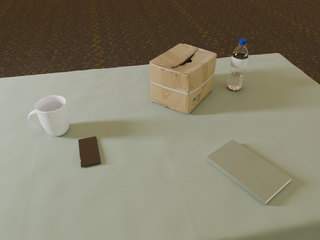book: (206, 140, 291, 205)
bottle: (227, 39, 249, 91)
box: (150, 44, 217, 114)
cup: (28, 96, 70, 136)
phone: (78, 136, 101, 167)
